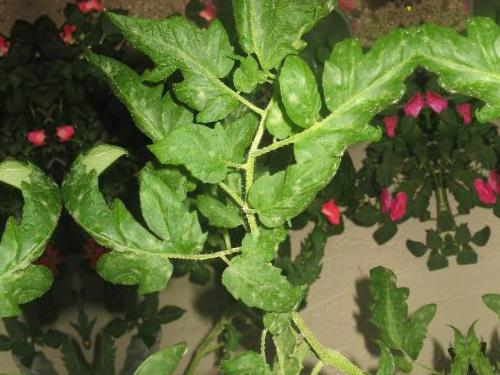Tomato mold leaf: (64, 128, 213, 308), (103, 0, 255, 139), (307, 17, 432, 164), (245, 150, 353, 237), (220, 0, 340, 65), (215, 246, 306, 323), (265, 48, 326, 135), (101, 336, 203, 375), (203, 342, 284, 375)
